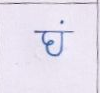anusvara: (60, 21, 64, 24)
